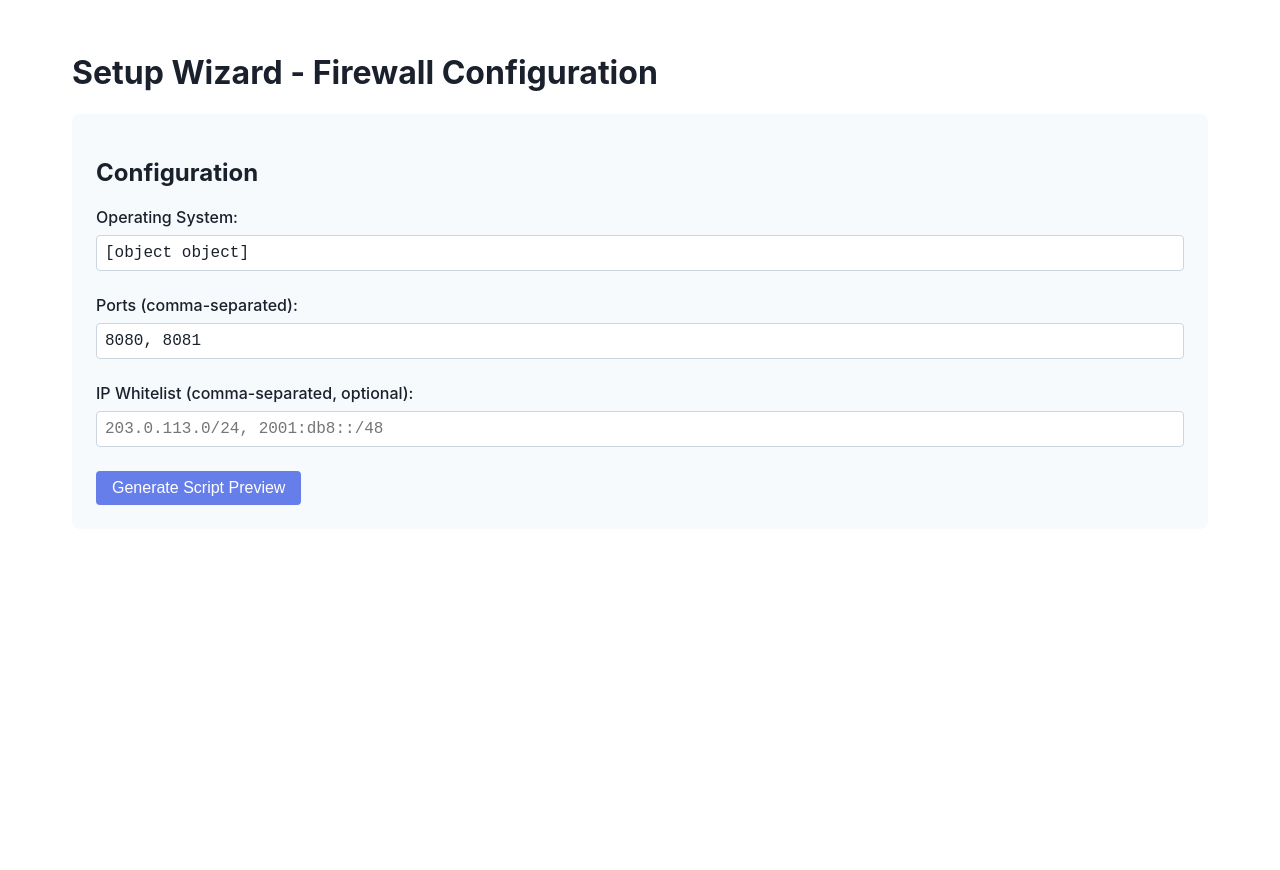
Test: SetupWizard › handles firewall script application failure
Click the button "Generate Script Preview" at (199, 488), box [96,471,301,505]
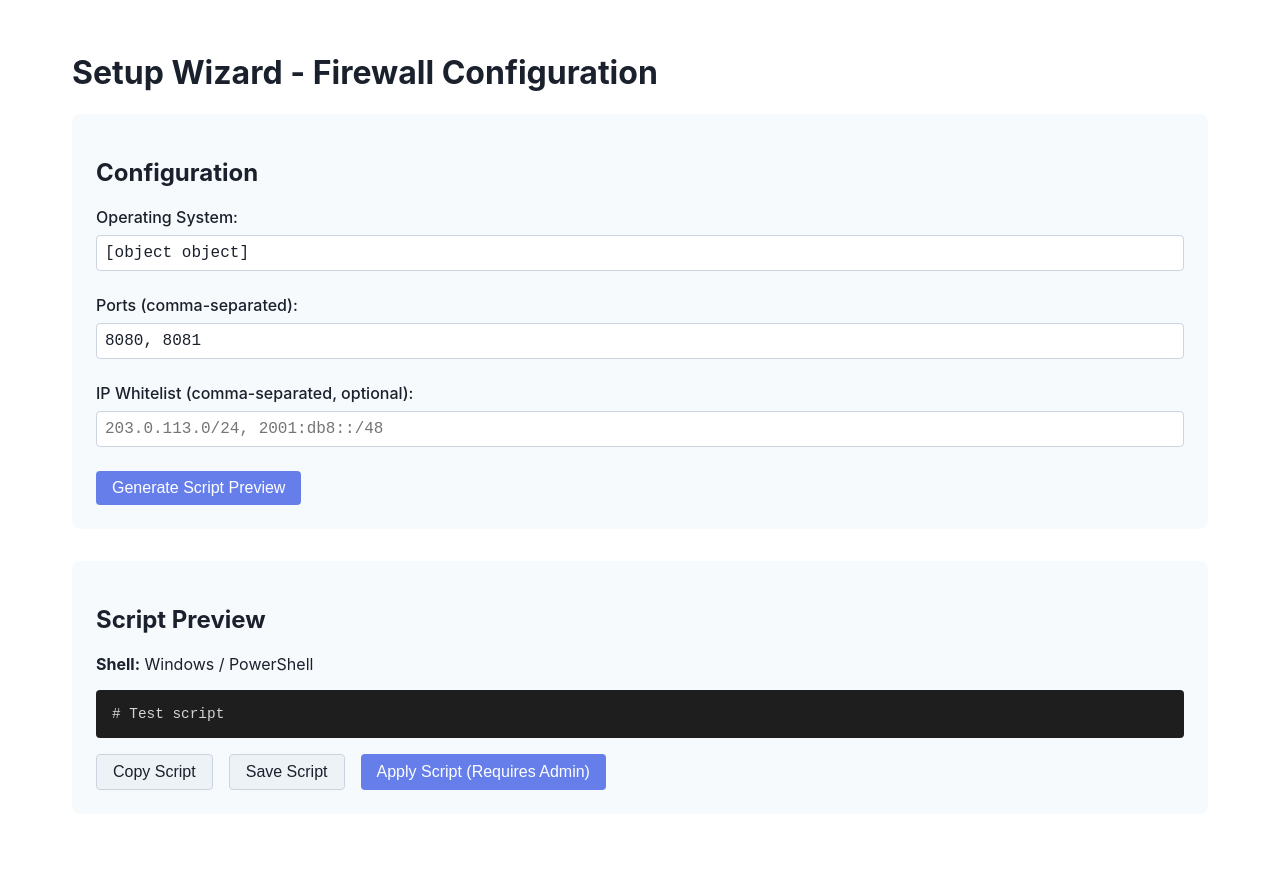
Now the button "Apply Script (Requires Admin)" is shown
Click the button "Apply Script (Requires Admin)" at (483, 772), box [360,754,606,790]
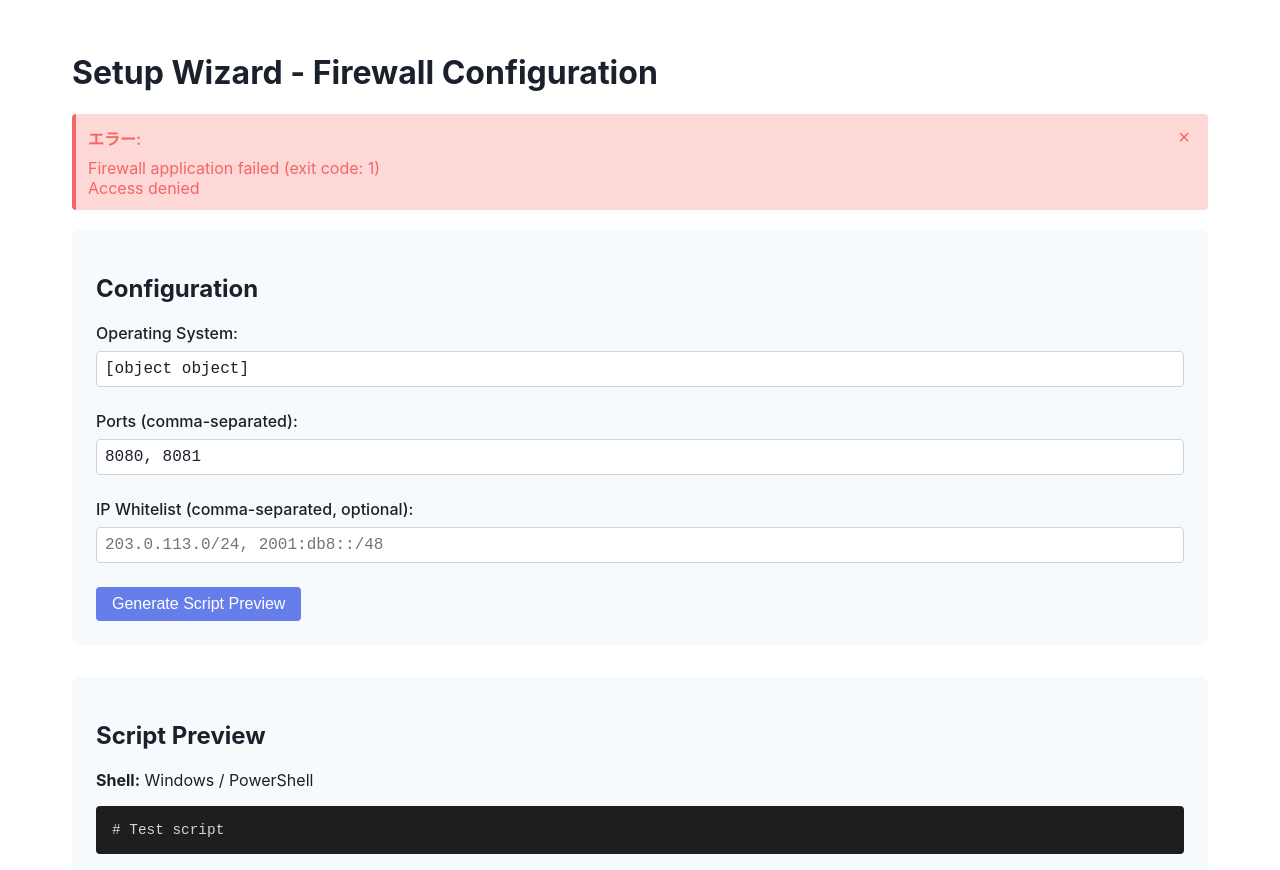
Now the text "Firewall application failed (exit code: 1) Access denied" is shown, box [88,158,380,198]
